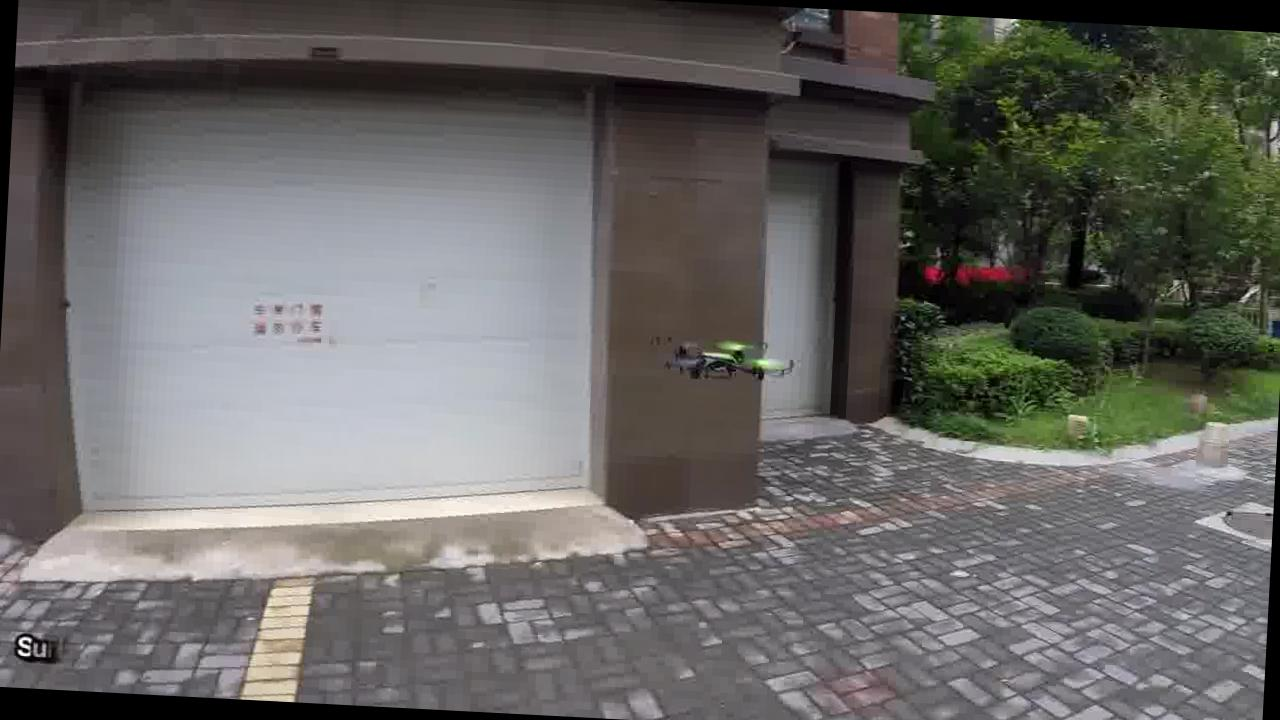drone: (648, 318, 796, 396)
